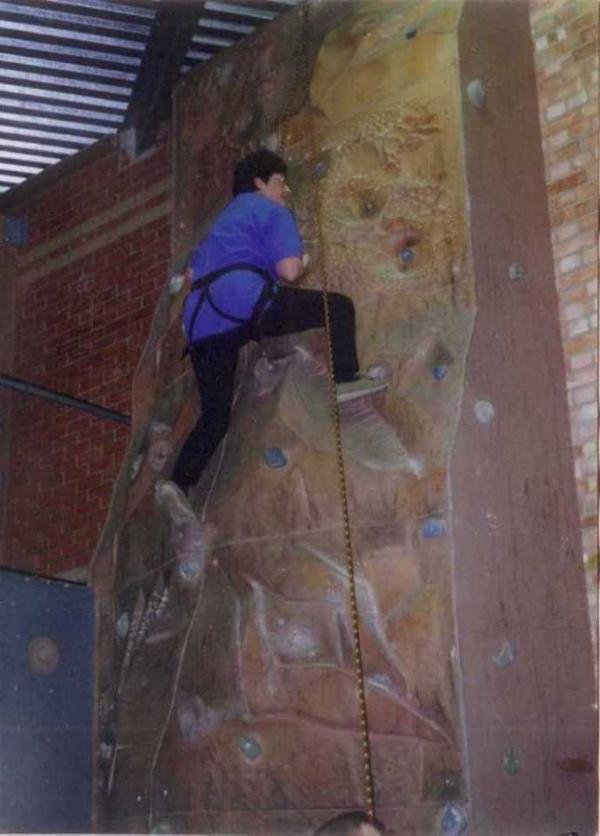person: (156, 144, 388, 531)
